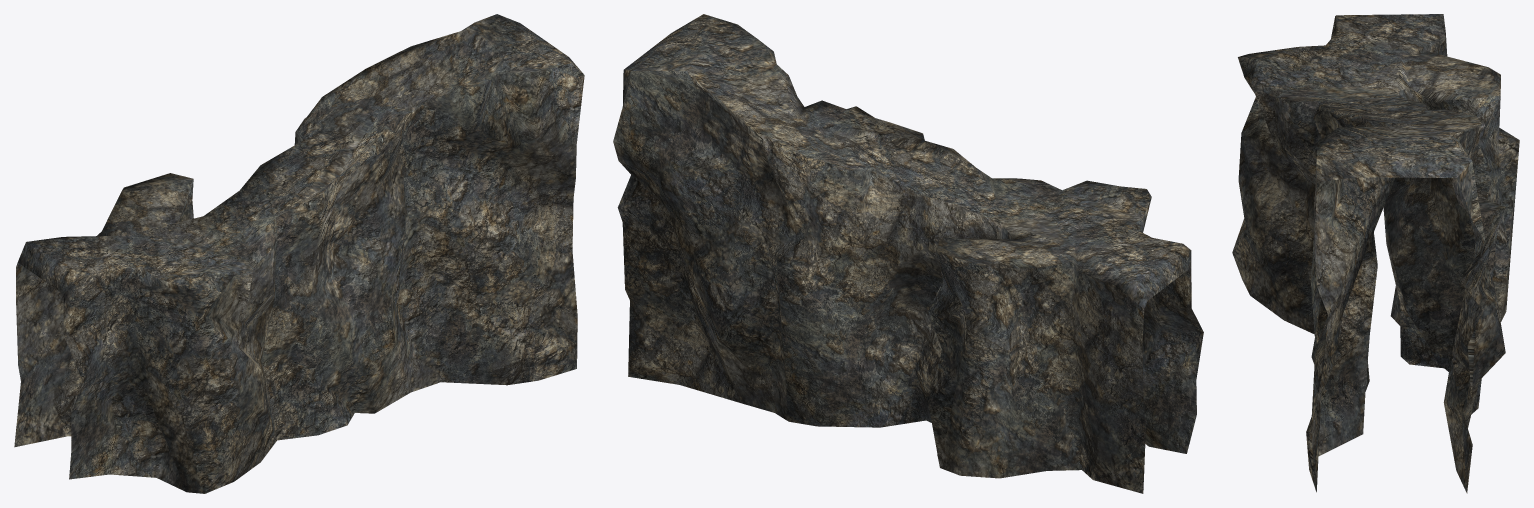
File: Module14B_LOD2.fbx
3 views of the same model, side by side, from view 1: azimuth 30°, elevation 25°; view 2: azimuth 150°, elevation 25°; view 3: azimuth 270°, elevation 25° (orthographic). The views are drawn at different scales.
Visible parts, largest first — view 1: cave_el14B_1800_Group49531; view 2: cave_el14B_1800_Group49531; view 3: cave_el14B_1800_Group49531.
Boxes of the visible parts, left/top/right/bottom form: cave_el14B_1800_Group49531: left=14, top=14, right=584, bottom=493; cave_el14B_1800_Group49531: left=613, top=14, right=1203, bottom=493; cave_el14B_1800_Group49531: left=1232, top=14, right=1519, bottom=493.
Bounding box in the file's own units: 53.11 × 30.93 × 24.
